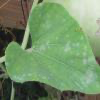Squash Powdery mildew leaf: (4, 2, 99, 96)
